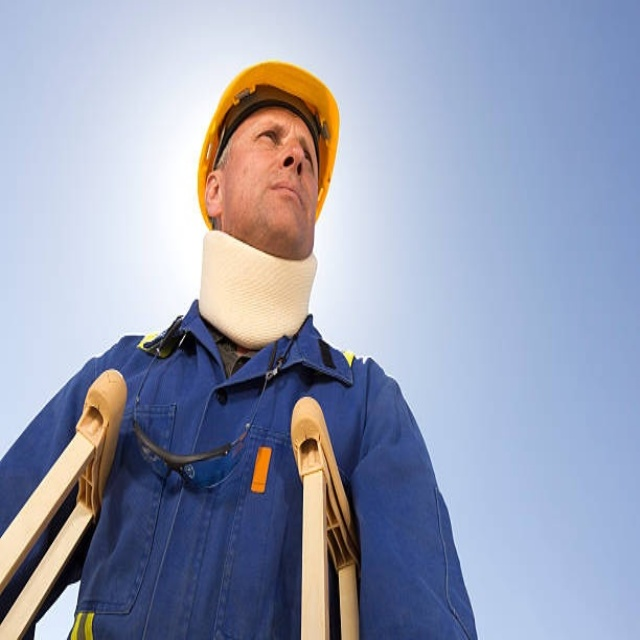Sin_gafas: (248, 118, 318, 166)
Sin_mascara: (264, 169, 312, 224)
